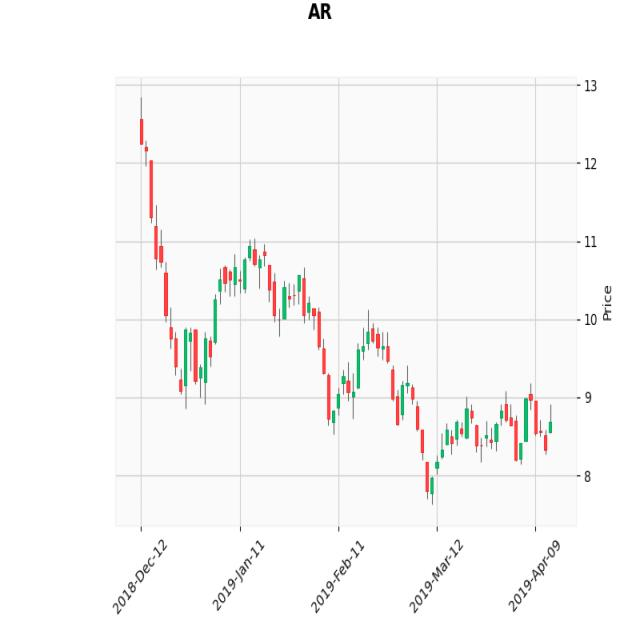Double-Bottom: (159, 319, 220, 419)
Head-Shoulders: (208, 228, 327, 382), (329, 312, 431, 484)
